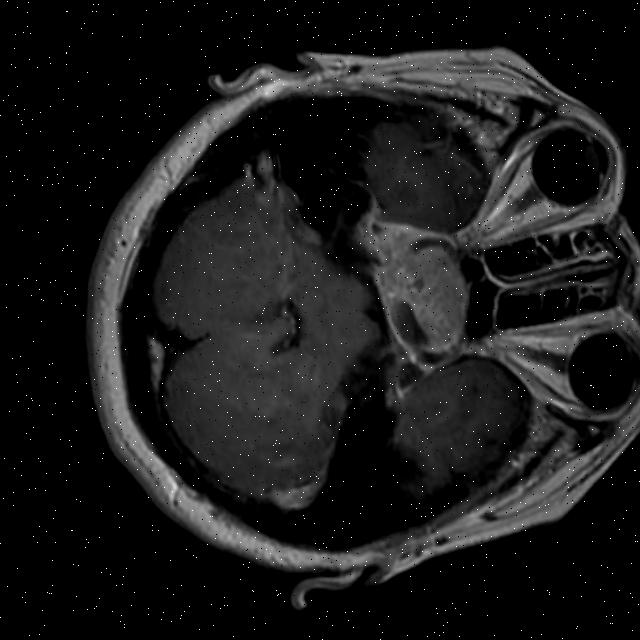Pituitary: (379, 239, 479, 361)
